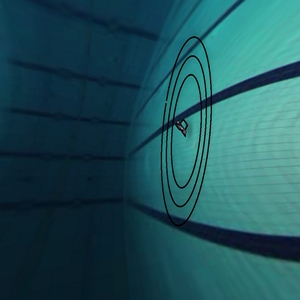circle: (142, 28, 228, 234)
submarine: (172, 114, 193, 142)
